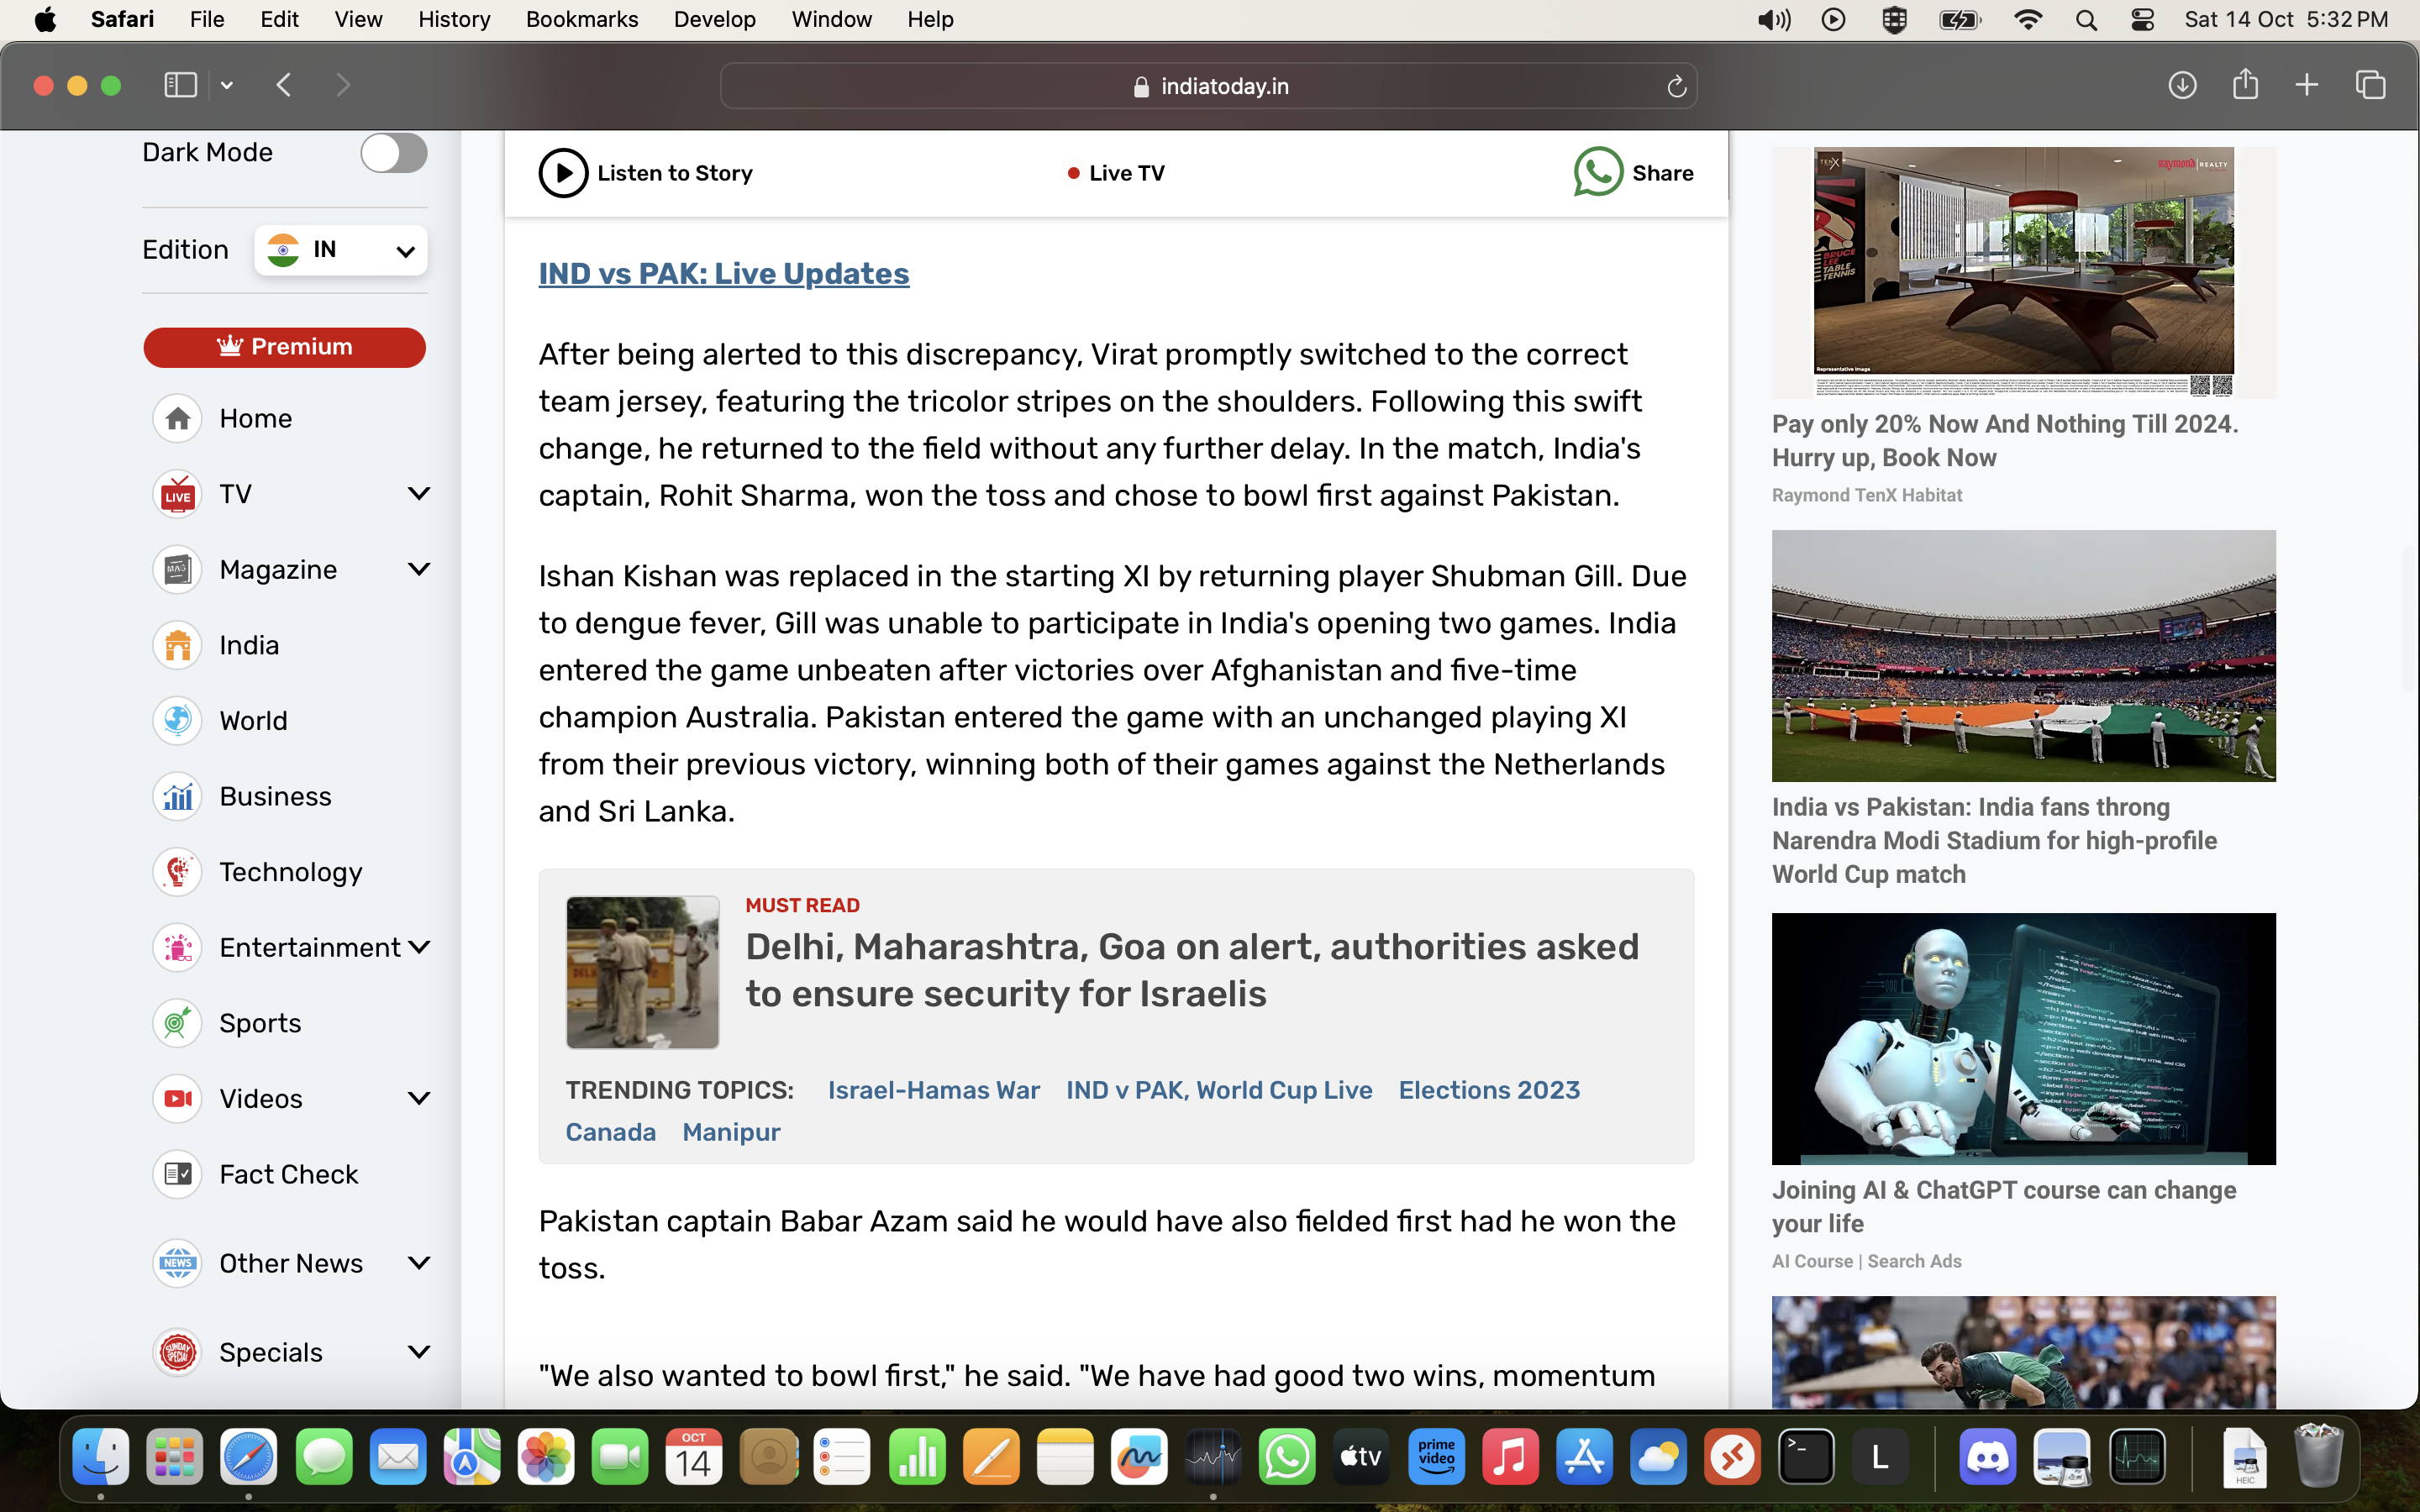Image: (1770, 533, 2277, 786), (1774, 913, 2274, 1162), (1817, 157, 2234, 359), (1774, 1301, 2274, 1407)
Paragraph: (530, 556, 1692, 833), (533, 333, 1660, 519), (537, 1198, 1681, 1298), (742, 925, 1641, 1012), (519, 1355, 1667, 1407), (1770, 402, 2244, 476), (1770, 786, 2227, 859), (1774, 1172, 2251, 1235), (530, 249, 932, 300), (1065, 1059, 1375, 1118), (1385, 1059, 1591, 1122), (819, 1068, 1038, 1115), (1765, 1242, 1997, 1286), (220, 1232, 380, 1286), (209, 848, 380, 892), (596, 150, 772, 190), (213, 928, 399, 965), (1770, 479, 1974, 512), (216, 322, 359, 369), (132, 132, 282, 176), (213, 1151, 359, 1195), (559, 1071, 786, 1099), (213, 549, 355, 592), (216, 1331, 343, 1378), (200, 383, 307, 439), (1770, 869, 1984, 895), (213, 1071, 310, 1118), (216, 782, 350, 815), (1631, 150, 1704, 209), (1078, 153, 1181, 193), (220, 998, 314, 1042), (132, 226, 230, 267), (197, 705, 310, 739), (676, 1122, 793, 1151), (216, 625, 293, 662), (563, 1122, 666, 1148), (197, 472, 263, 505)
